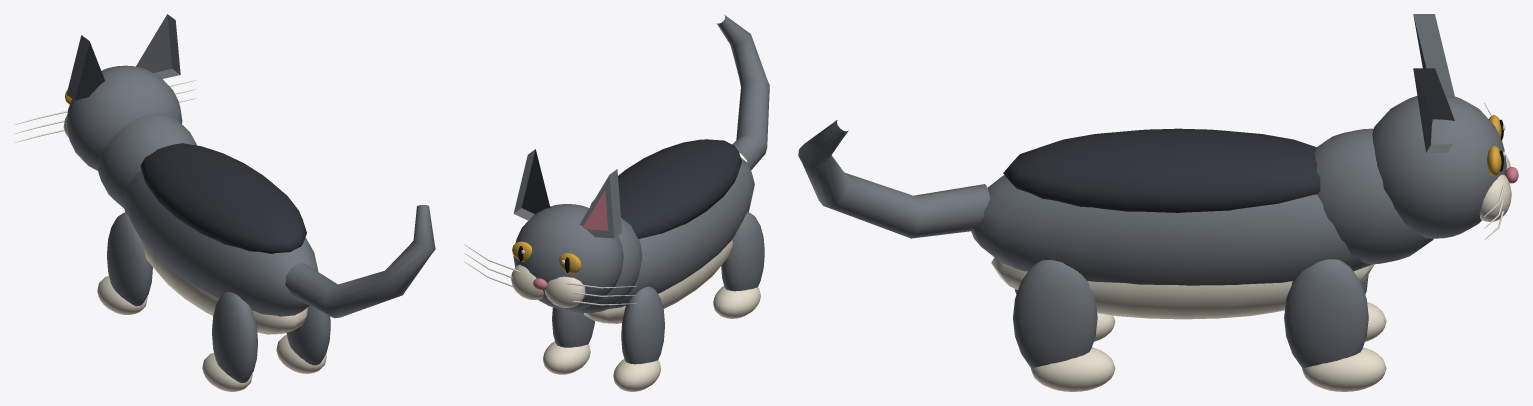
Rendered from cat.glb.
3 renders of one model, left to right at view 1: azimuth 30°, elevation 25°; view 2: azimuth 150°, elevation 25°; view 3: azimuth 270°, elevation 25°, orthographic. The views are drawn at different scales.
Parts seen in each view (by area): view 1: MWC_Cat; view 2: MWC_Cat; view 3: MWC_Cat.
Part boxes in pixels (x1,y1,x2,y2): MWC_Cat: [14, 14, 435, 391]; MWC_Cat: [464, 14, 769, 391]; MWC_Cat: [798, 14, 1518, 391].
Bounding box in the file's own units: 0.2742 × 0.363 × 0.7307.
1 material, 1 textured.
